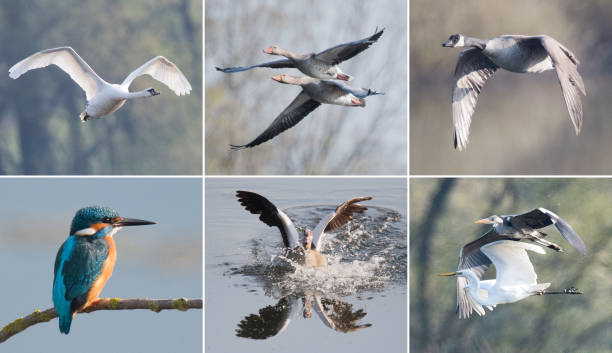goose: (439, 31, 588, 154), (7, 46, 195, 124), (226, 72, 388, 158), (233, 187, 374, 266), (213, 26, 388, 84)
